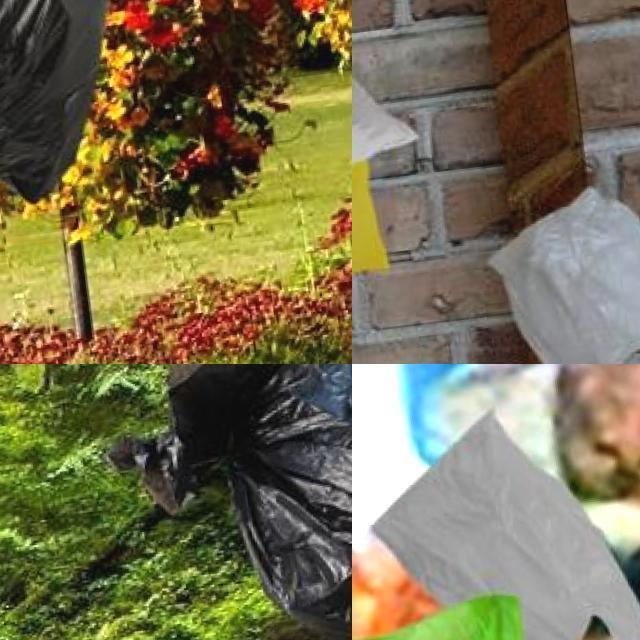waste: (365, 387, 640, 640), (147, 364, 352, 640), (0, 0, 133, 226), (496, 175, 640, 364), (352, 577, 615, 640), (352, 0, 430, 193), (295, 364, 352, 424)
